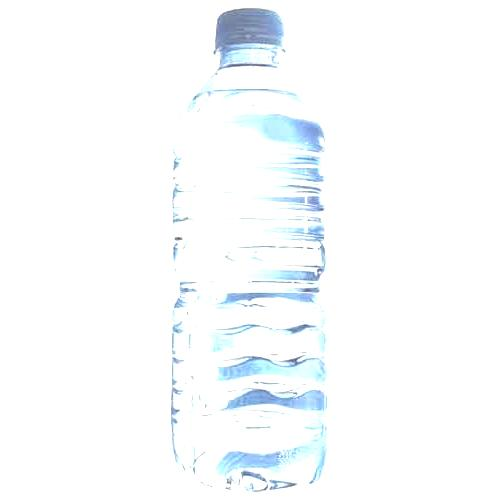bottle: (154, 2, 330, 500)
